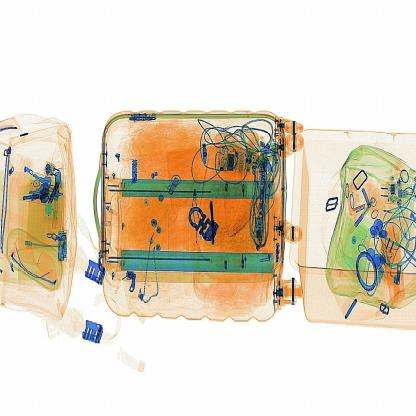knife: (202, 191, 228, 251)
